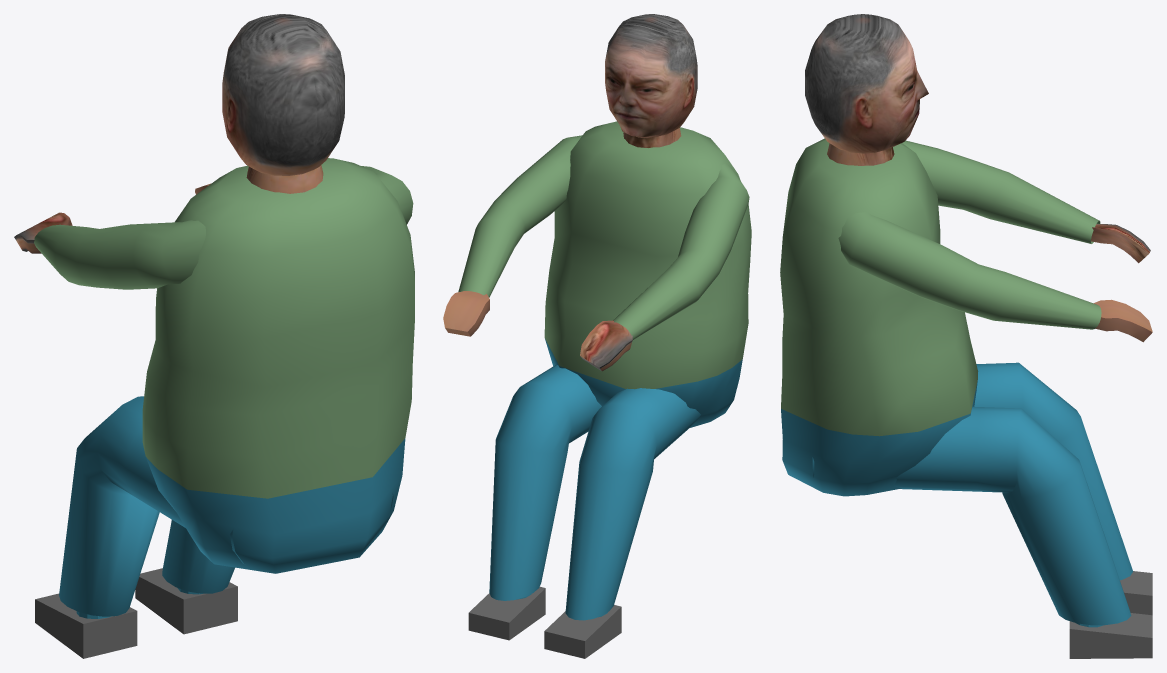
The model's file is driver.fbx.
The picture shows the model from 3 angles, left to right: view 1: azimuth 30°, elevation 25°; view 2: azimuth 150°, elevation 25°; view 3: azimuth 270°, elevation 25°; orthographic projection. The views are drawn at different scales.
Visible parts, largest first — view 1: pCylinder3, pCylinder9, pCylinder5, pCylinder7, pCube4, pCube3, pCylinder4, pCylinder8, pCylinder6, pCube2; view 2: pCylinder3, pCylinder5, pCylinder4, pCylinder9, pCylinder7, pCylinder6, pCube3, pCube4, pCube2, pCube1, pCylinder8; view 3: pCylinder3, pCylinder4, pCylinder9, pCylinder6, pCylinder7, pCylinder5, pCube3, pCube1, pCube2, pCube4, pCylinder8.
Part boxes in pixels (left/top/right/bottom): pCylinder3: left=142, top=158, right=414, bottom=573; pCylinder9: left=222, top=14, right=344, bottom=175; pCylinder5: left=59, top=396, right=243, bottom=616; pCylinder7: left=34, top=220, right=205, bottom=289; pCube4: left=35, top=593, right=137, bottom=658; pCube3: left=135, top=568, right=237, bottom=634; pCylinder4: left=162, top=493, right=393, bottom=593; pCylinder8: left=246, top=165, right=323, bottom=193; pCylinder6: left=361, top=166, right=413, bottom=224; pCube2: left=14, top=212, right=72, bottom=253; pCylinder3: left=544, top=121, right=751, bottom=427; pCylinder5: left=565, top=388, right=700, bottom=620; pCylinder4: left=489, top=365, right=601, bottom=600; pCylinder9: left=605, top=14, right=697, bottom=137; pCylinder7: left=613, top=163, right=749, bottom=339; pCylinder6: left=458, top=135, right=582, bottom=297; pCube3: left=468, top=586, right=545, bottom=640; pCube4: left=544, top=605, right=621, bottom=658; pCube2: left=580, top=320, right=632, bottom=371; pCube1: left=443, top=291, right=489, bottom=336; pCylinder8: left=623, top=128, right=681, bottom=147; pCylinder3: left=780, top=138, right=978, bottom=496; pCylinder4: left=812, top=406, right=1131, bottom=625; pCylinder9: left=805, top=14, right=928, bottom=153; pCylinder6: left=838, top=212, right=1101, bottom=329; pCylinder7: left=902, top=140, right=1100, bottom=243; pCylinder5: left=974, top=362, right=1132, bottom=580; pCube3: left=1069, top=613, right=1152, bottom=658; pCube1: left=1093, top=299, right=1152, bottom=342; pCube2: left=1091, top=224, right=1150, bottom=263; pCube4: left=1120, top=571, right=1152, bottom=615; pCylinder8: left=827, top=143, right=894, bottom=165.
Size of the model in its own units: 10.55 by 23.76 by 13.19.
Materials: 4 (1 with a texture image).
